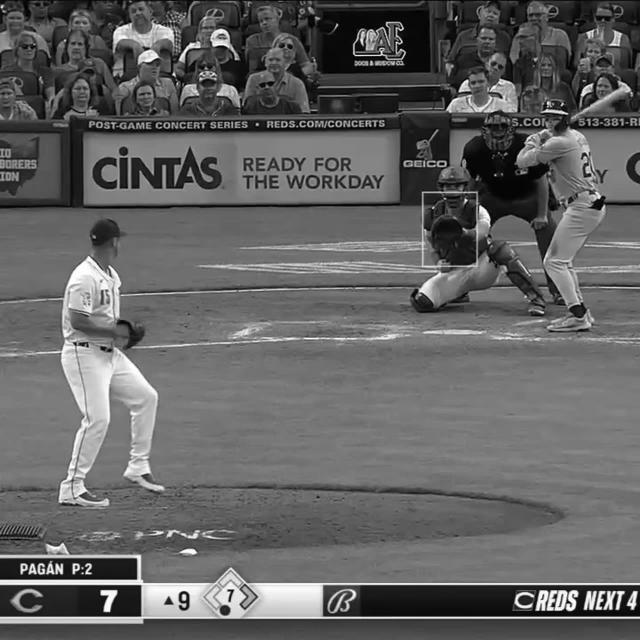base: (422, 323, 487, 337)
baseball_glove: (114, 317, 144, 350), (431, 214, 463, 242)
bat: (568, 85, 632, 126)
shoe: (125, 464, 167, 501), (546, 305, 596, 329), (53, 488, 111, 506), (527, 296, 547, 316)
